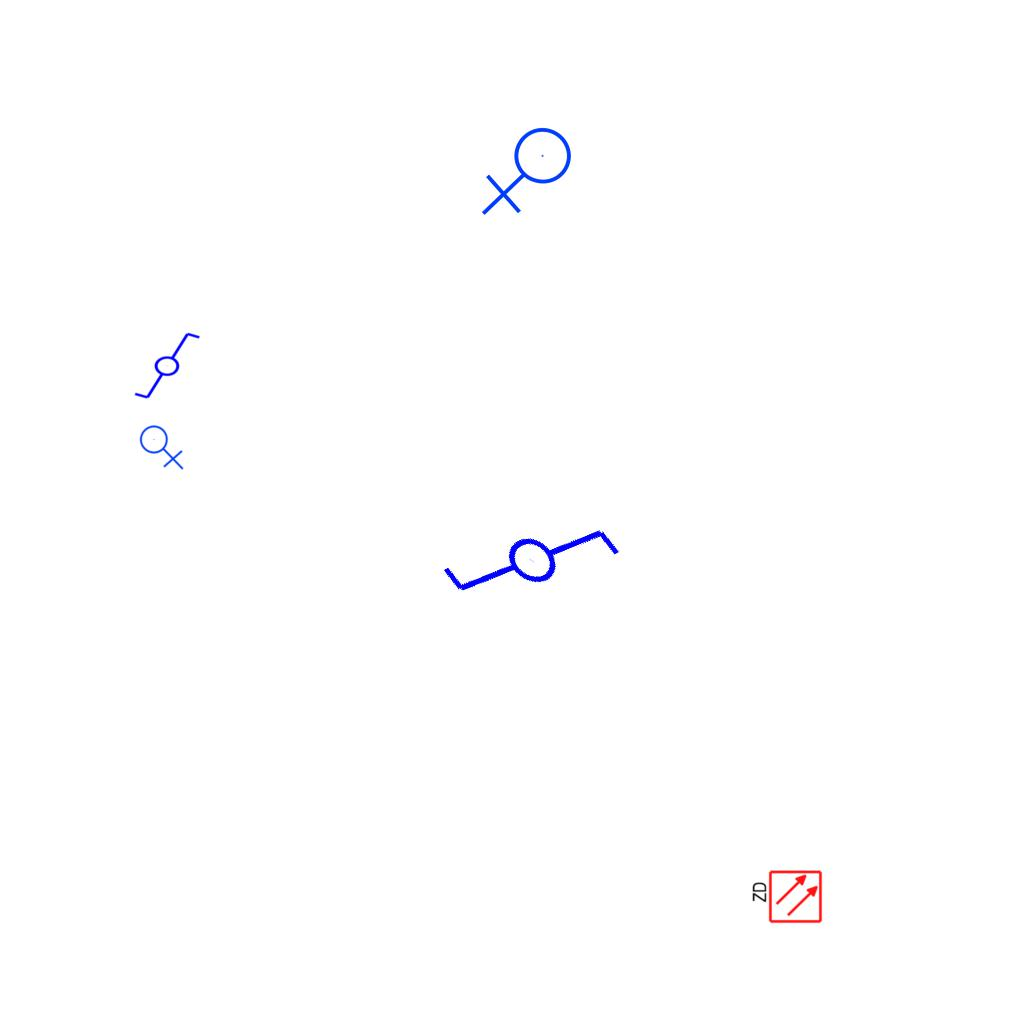Elektroanschluss_allgemein_230V_Geraeteanschlussdose_230V: (481, 126, 580, 220), (139, 421, 186, 470)
Wechselschalter: (431, 462, 644, 672), (124, 329, 202, 401)
ZD_Melder_in_Zwischendecke_mit_Revisionsoeffnung_mind_40_x_40_cm: (749, 869, 823, 926)
